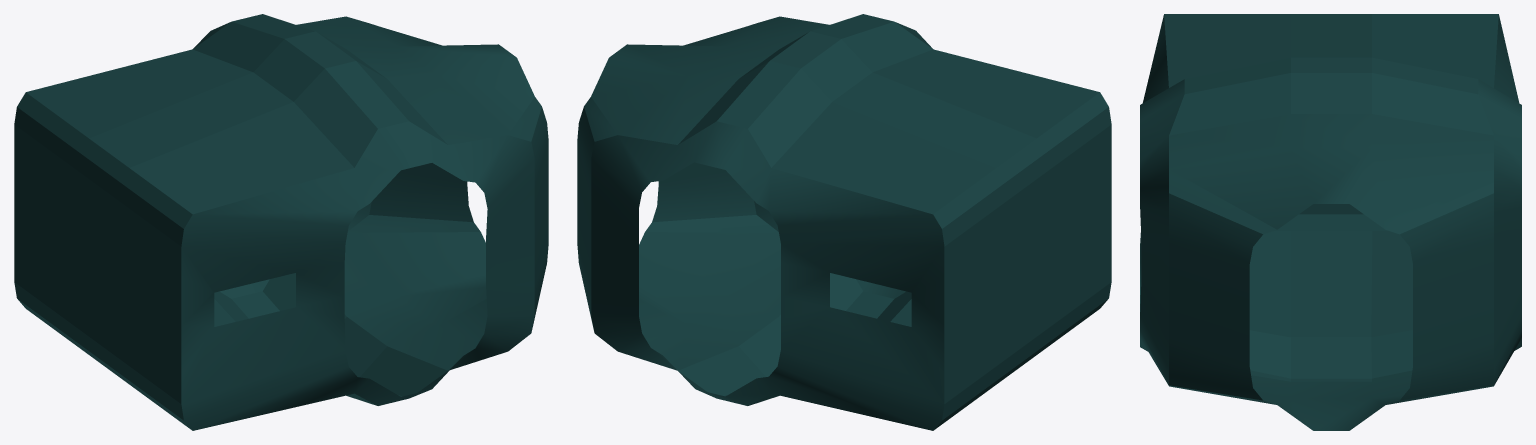
The model's file is OutsideBedroom.fbx.
The picture shows the model from 3 angles, left to right: view 1: azimuth 30°, elevation 25°; view 2: azimuth 150°, elevation 25°; view 3: azimuth 270°, elevation 25°; orthographic projection.
Visible parts, largest first — view 1: OutsideBedroom; view 2: OutsideBedroom; view 3: OutsideBedroom.
Part boxes in pixels (left/top/right/bottom): OutsideBedroom: left=14, top=14, right=548, bottom=430; OutsideBedroom: left=577, top=14, right=1111, bottom=430; OutsideBedroom: left=1140, top=14, right=1521, bottom=430.
Bounding box in the file's own units: 690 × 555 × 515.
